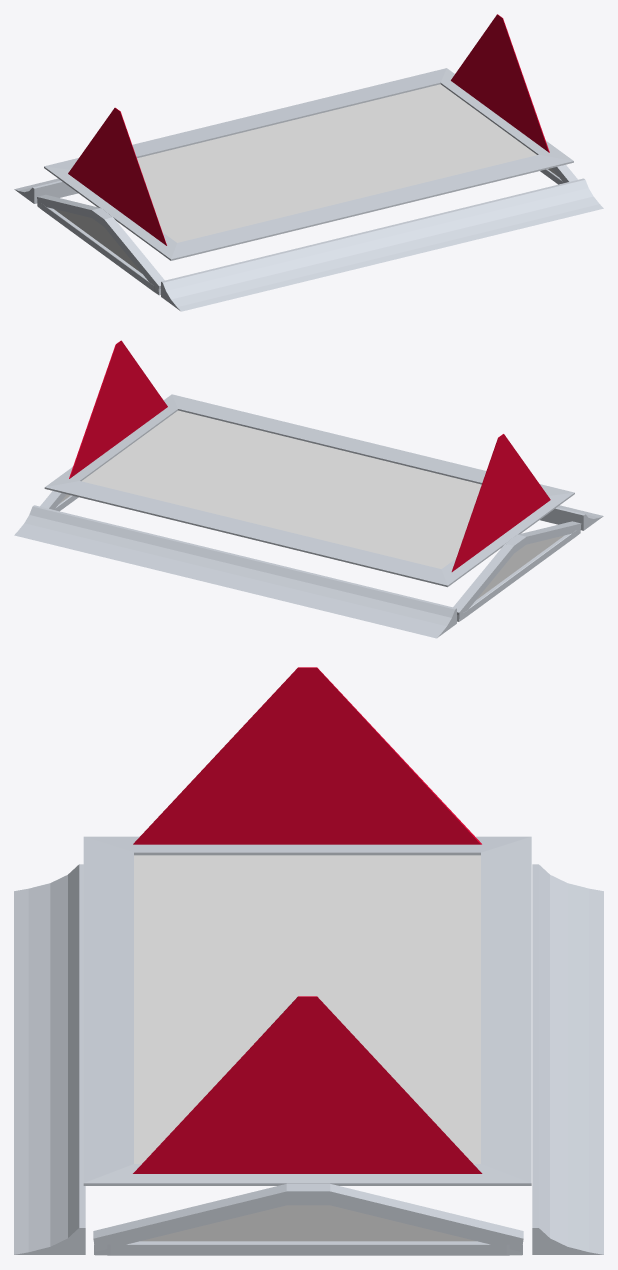
The model's file is CHARGE STATION pronto.fbx.
3 views of the same model, one above another, from view 1: azimuth 30°, elevation 25°; view 2: azimuth 150°, elevation 25°; view 3: azimuth 270°, elevation 25° (orthographic). The views are drawn at different scales.
Parts seen in each view (by area): view 1: Plataforma, BASE.001; view 2: Plataforma, BASE.001; view 3: Plataforma, BASE.001.
Part boxes in pixels (x1=…): Plataforma: x1=44, y1=14, x2=573, y2=260; BASE.001: x1=14, y1=164, x2=603, y2=311; Plataforma: x1=44, y1=340, x2=574, y2=587; BASE.001: x1=14, y1=466, x2=603, y2=638; Plataforma: x1=83, y1=667, x2=531, y2=1185; BASE.001: x1=14, y1=864, x2=603, y2=1255.
Size of the model in its own units: 244 by 75.6 by 167.
